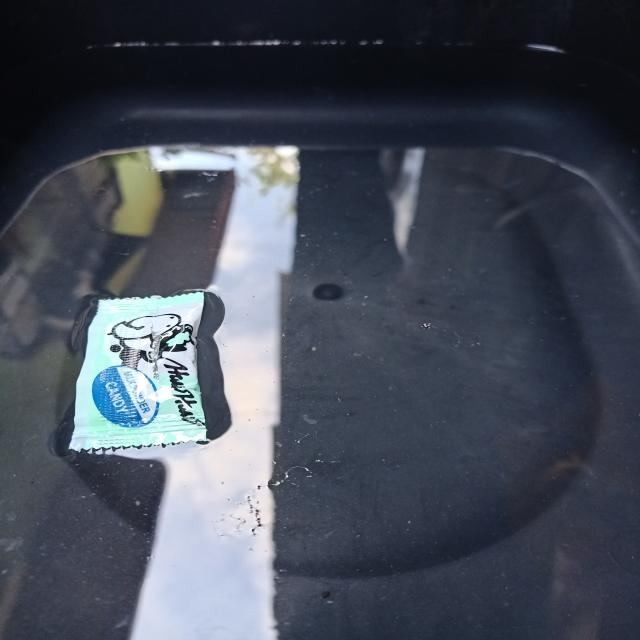Plastic Wrapper: (61, 284, 220, 458)
